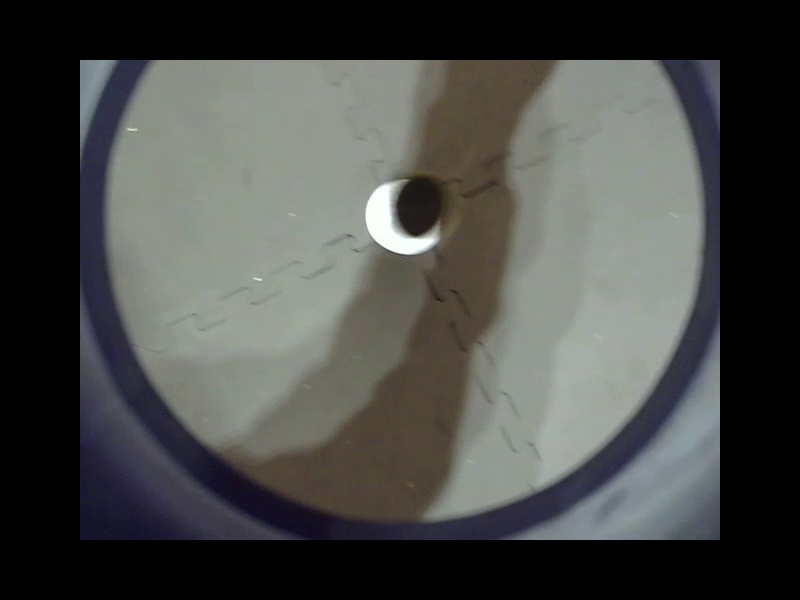tip: (434, 327, 542, 439)
